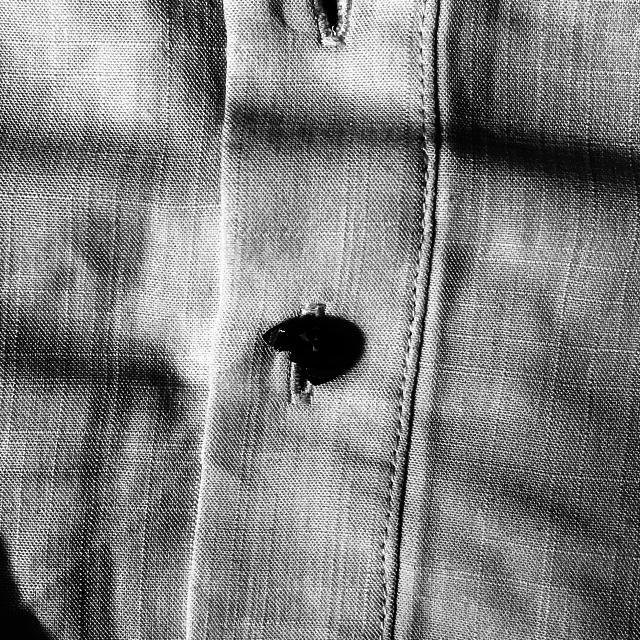Broken_button: (250, 304, 367, 396)
